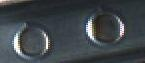joints: (12, 21, 52, 58), (85, 7, 124, 44)
